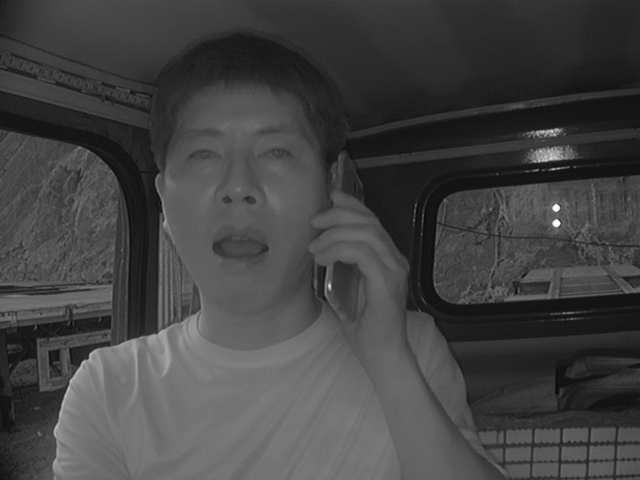hand: (301, 188, 411, 348)
